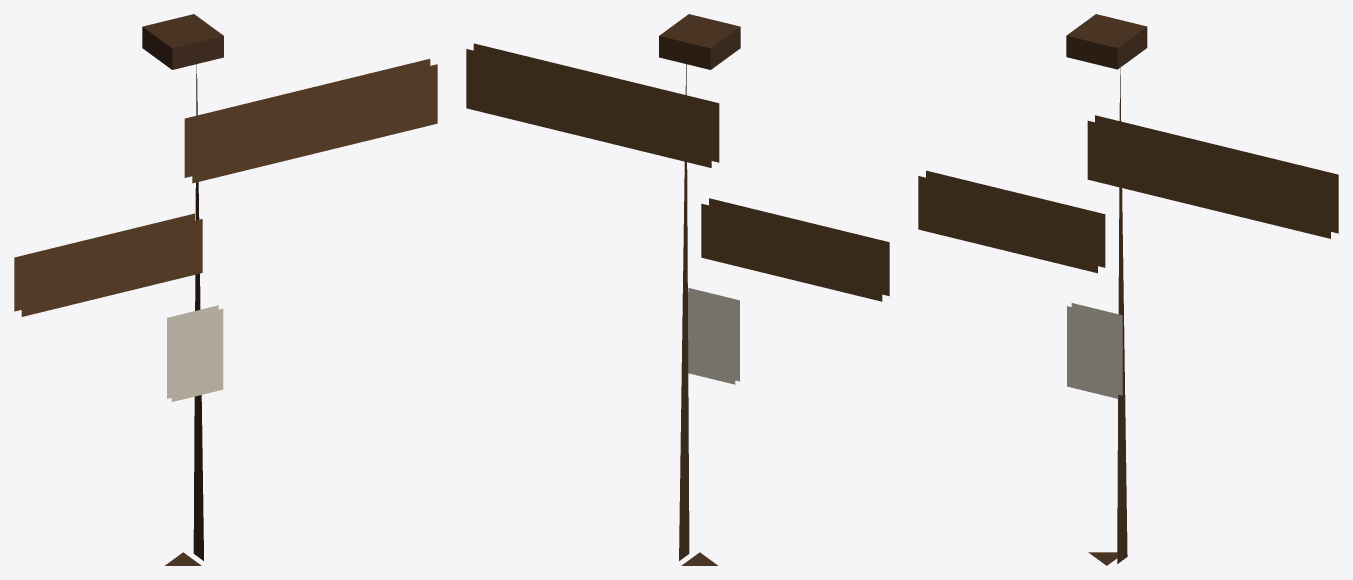
File: prop_signpost_lod1.glb
3 renders of one model, left to right at view 1: azimuth 30°, elevation 25°; view 2: azimuth 150°, elevation 25°; view 3: azimuth 330°, elevation 25°, orthographic.
Parts seen in each view (by area): view 1: prop_signpost_lod1; view 2: prop_signpost_lod1; view 3: prop_signpost_lod1.
Boxes of the visible parts, x1,y1,x2,y2 form: prop_signpost_lod1: [14, 14, 437, 565]; prop_signpost_lod1: [466, 14, 889, 565]; prop_signpost_lod1: [918, 14, 1338, 565].
Bounding box in the file's own units: 1.61 × 1.96 × 0.2.
